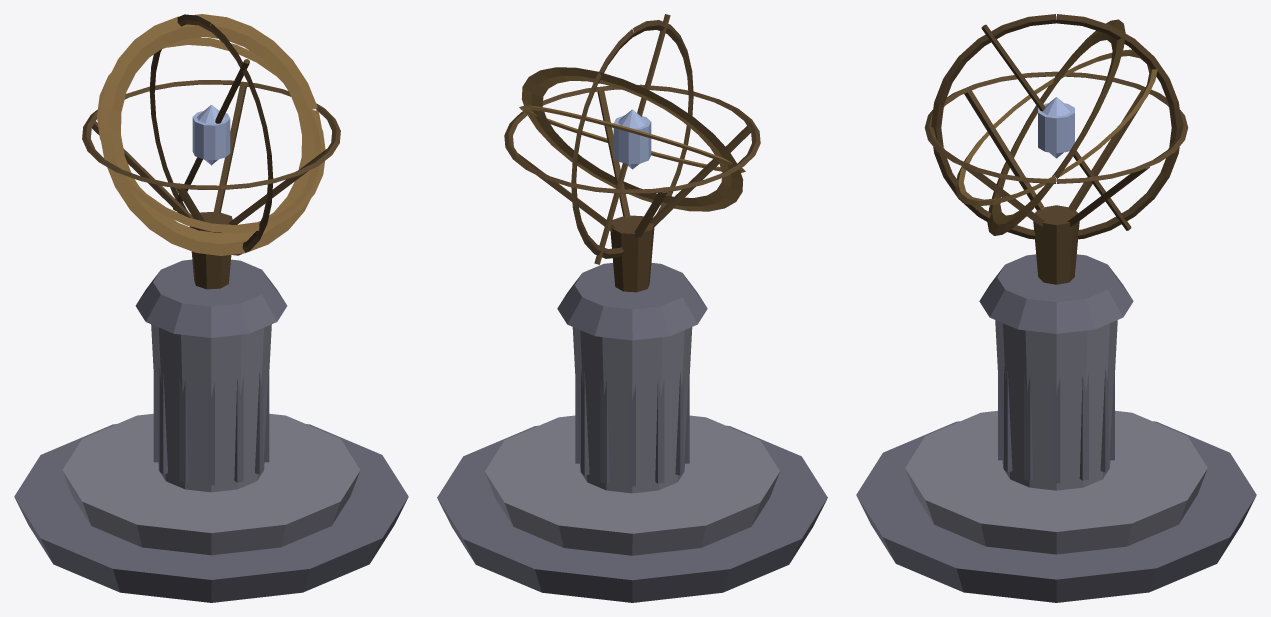
File: skywatch-armillary.glb
3 renders of one model, left to right at view 1: azimuth 30°, elevation 25°; view 2: azimuth 150°, elevation 25°; view 3: azimuth 270°, elevation 25°, orthographic. The views are drawn at different scales.
Visible parts, largest first — view 1: skywatch-armillary; view 2: skywatch-armillary; view 3: skywatch-armillary.
Boxes of the visible parts, x1,y1,x2,y2 form: skywatch-armillary: [14, 14, 408, 602]; skywatch-armillary: [437, 14, 827, 602]; skywatch-armillary: [856, 14, 1256, 602].
Bounding box in the file's own units: 2.7 × 3.8 × 2.7.
